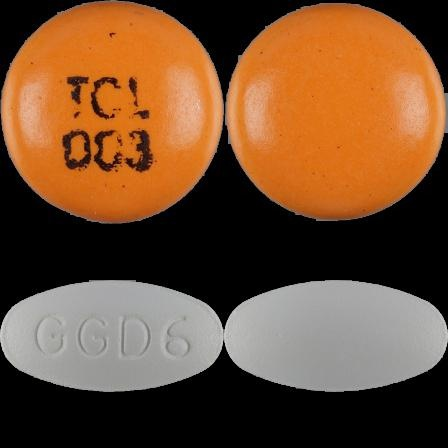55154-3388: (0, 0, 224, 224)
